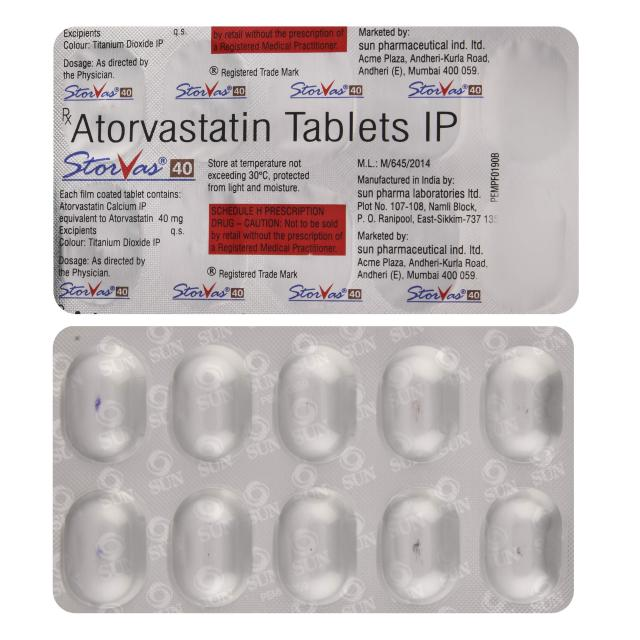Medicine-name: (68, 105, 461, 148)
